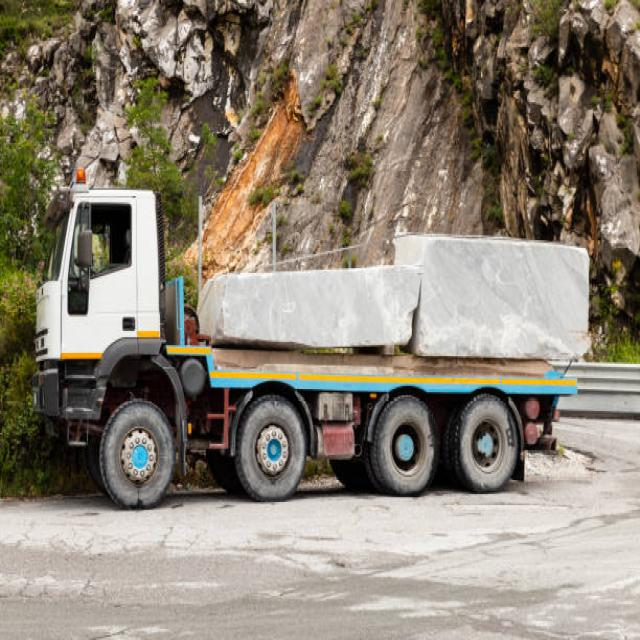Metamorphic: (404, 234, 598, 356), (202, 271, 421, 347)
